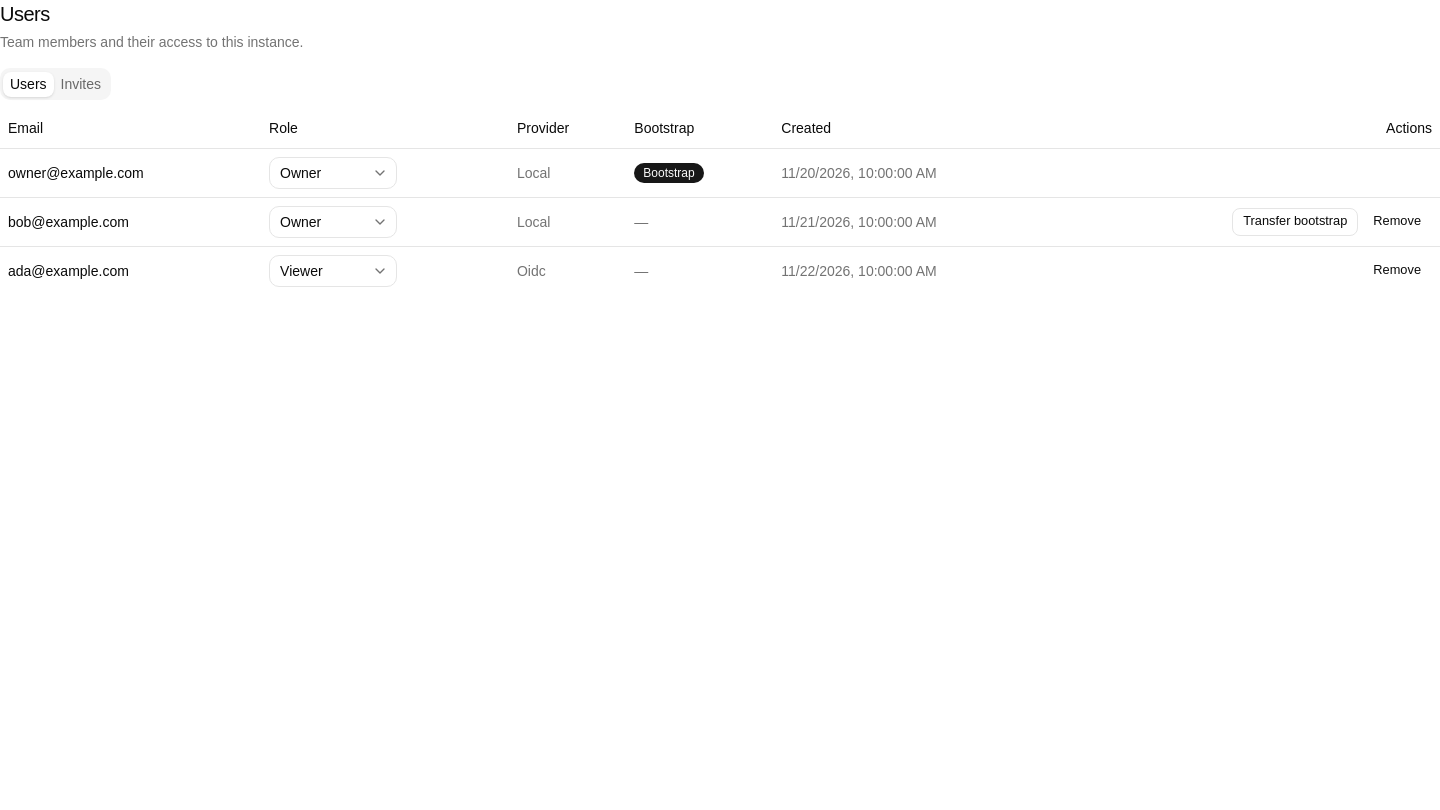
Scenario: users › requires the target email typed exactly to transfer bootstrap
Later steps or results of the test are not shown.
Click the button with aria-label "Transfer bootstrap to bob@example.com": (1295, 222) left=1232, top=208, right=1358, bottom=236
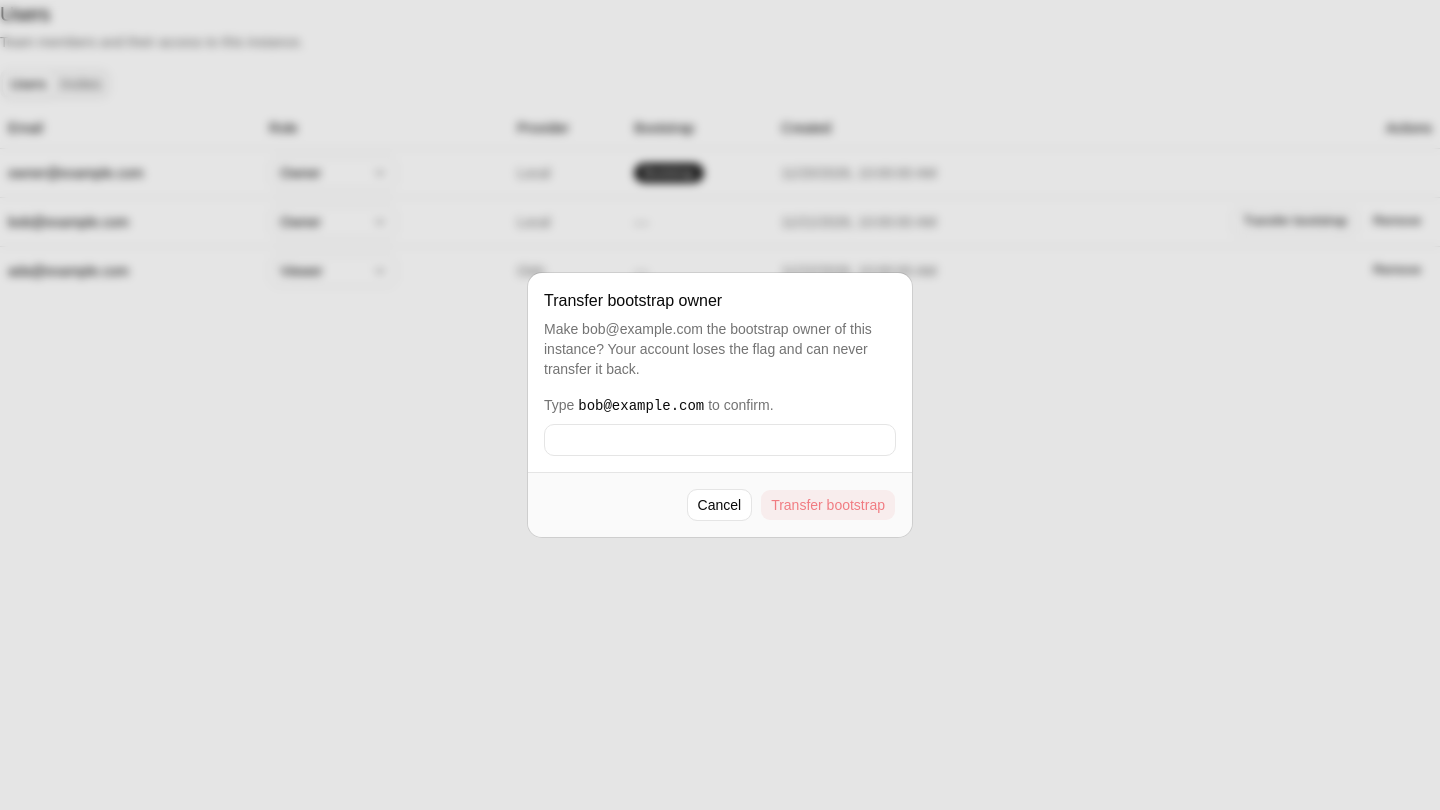
Expected: the button "Transfer bootstrap" is disabled, left=760, top=489, right=896, bottom=521
In the field named "Confirmation": (720, 440) left=544, top=424, right=896, bottom=456, type "bob@example"
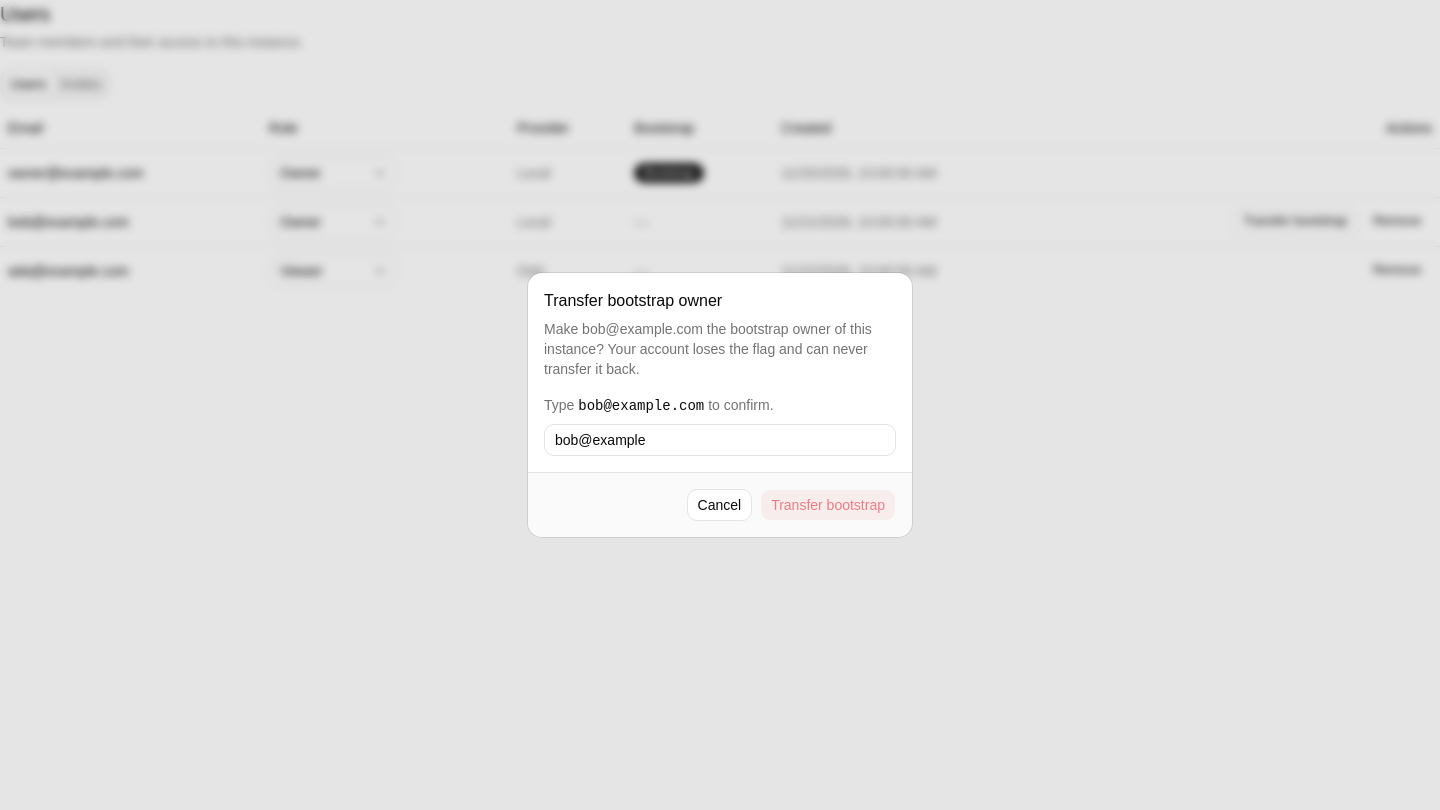
Expected: the button "Transfer bootstrap" is disabled, left=760, top=489, right=896, bottom=521
Replace the text in the field named "Confirmation" with "bob@example.com": (720, 440) left=544, top=424, right=896, bottom=456
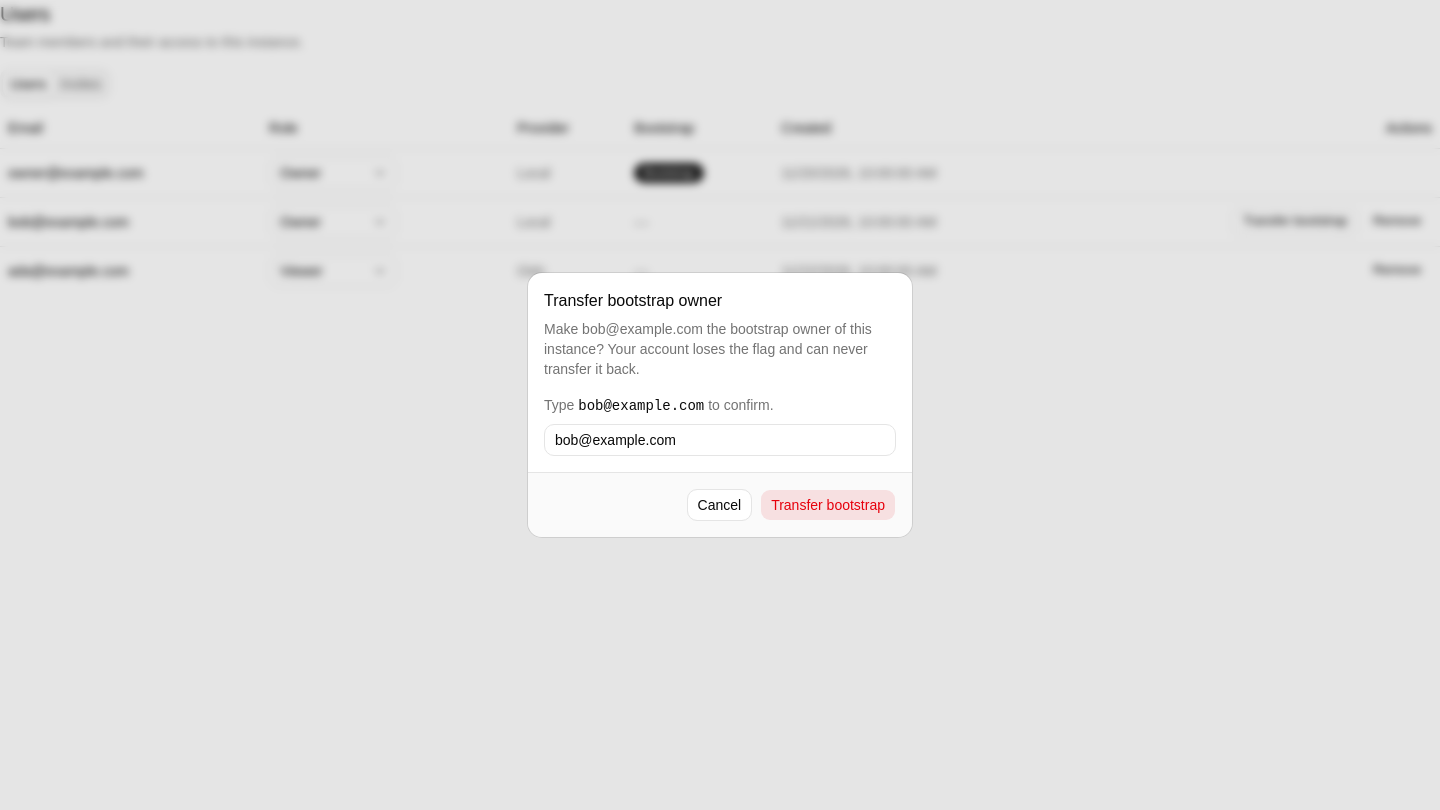
Expected: the button "Transfer bootstrap" is enabled, left=760, top=489, right=896, bottom=521
